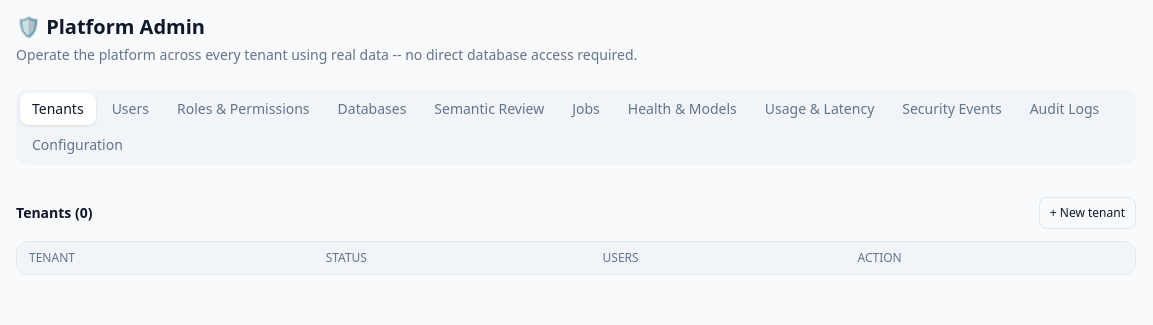
Scenario: PlatformAdmin › shows database health without any credential field
The width and height of the screenshot is (1153, 325).
Click the tab "Databases" at (372, 109), box [326,93,418,125]
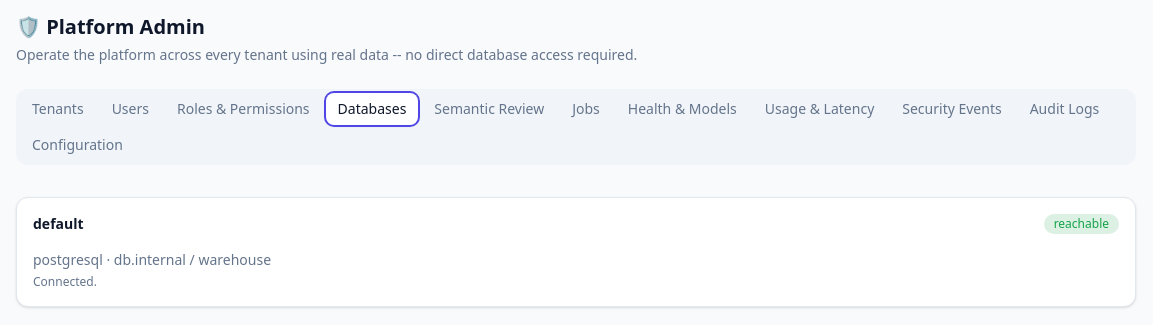
Now the heading "default" is shown, box [33,214,84,234]
Now the text "reachable" is shown, box [1044,214,1119,234]
